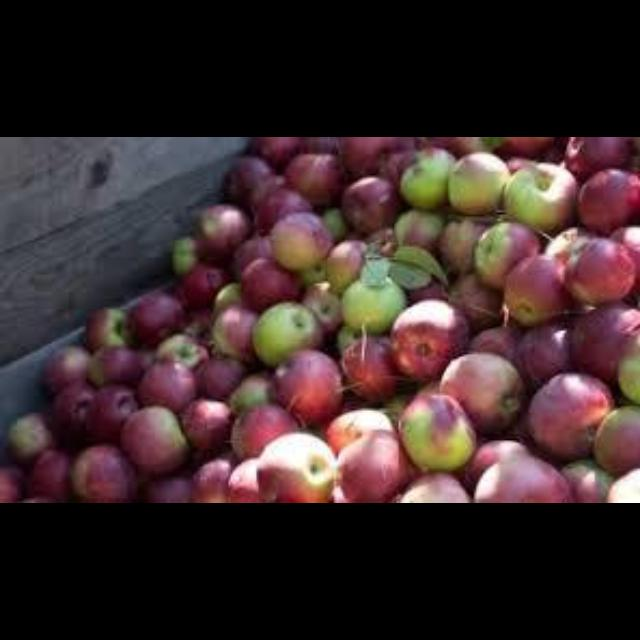apple: (528, 374, 612, 458), (440, 352, 521, 432), (390, 299, 468, 381), (399, 393, 474, 471), (256, 432, 334, 501), (502, 163, 575, 232), (274, 350, 340, 424), (474, 454, 571, 501), (504, 256, 571, 324), (121, 406, 187, 473), (474, 221, 539, 288), (252, 303, 321, 365), (578, 169, 638, 234), (448, 152, 509, 215), (71, 445, 136, 501), (343, 275, 405, 333), (231, 404, 297, 458), (340, 176, 399, 234), (241, 258, 300, 312), (401, 148, 453, 208), (127, 292, 183, 346), (593, 406, 638, 473), (284, 154, 343, 204), (86, 385, 136, 443), (565, 137, 629, 178), (181, 400, 231, 452), (211, 305, 256, 361), (54, 383, 93, 445), (28, 449, 69, 501), (155, 333, 207, 365)
